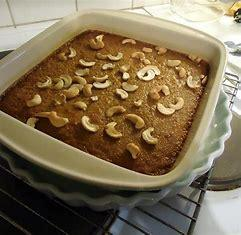Watalappam: (0, 23, 216, 179)
